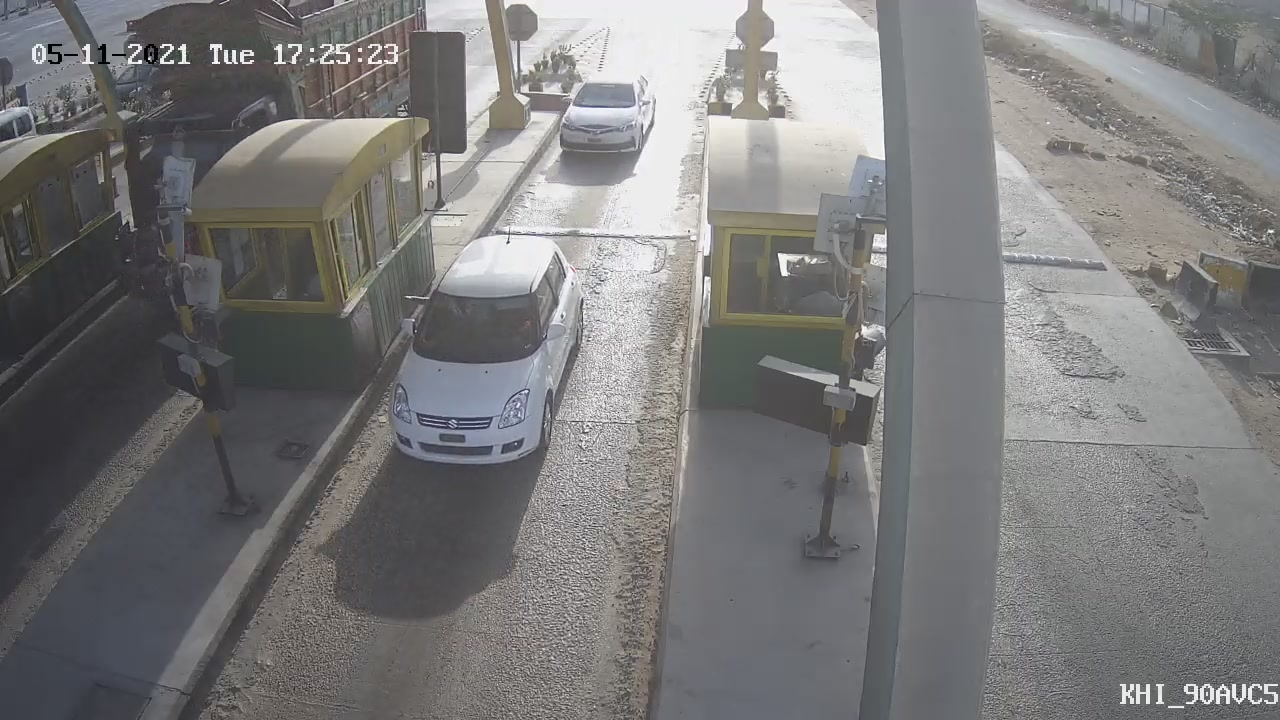F1: (359, 216, 608, 488), (538, 52, 670, 185)
